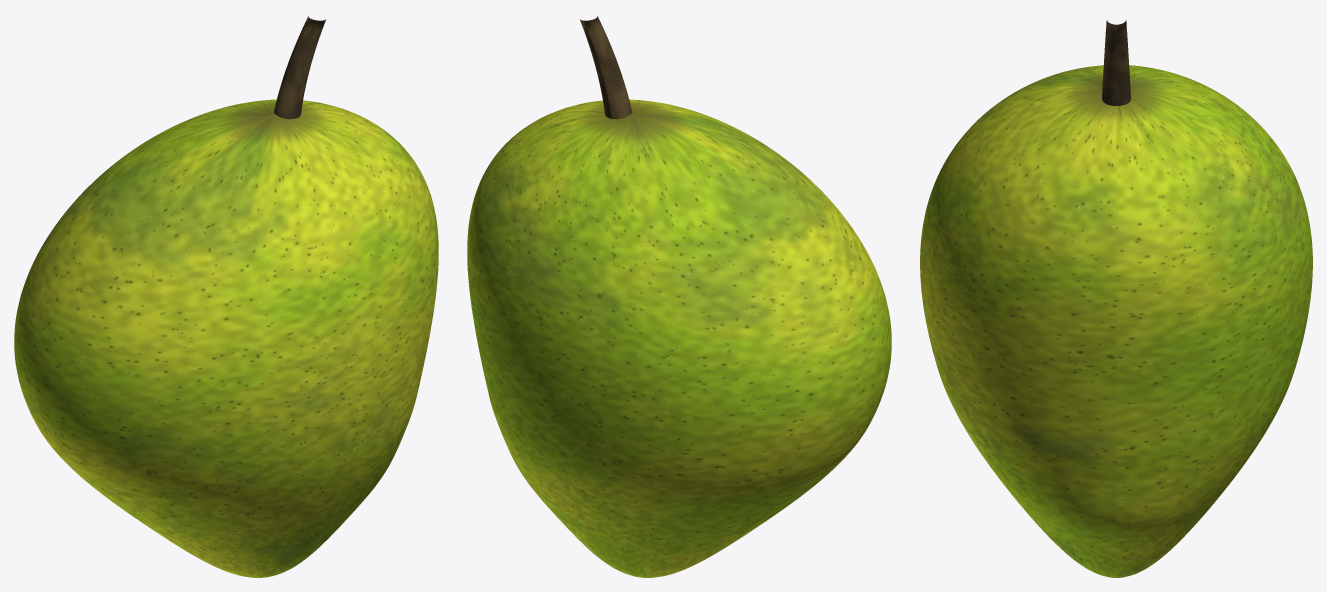
File: mangue-emile.glb
3 renders of one model, left to right at view 1: azimuth 30°, elevation 25°; view 2: azimuth 150°, elevation 25°; view 3: azimuth 270°, elevation 25°, orthographic. The views are drawn at different scales.
Visible parts, largest first — view 1: entier_peau, moitie_A_peau, moitie_B_peau, entier_extra0; view 2: entier_peau, moitie_B_peau, moitie_A_peau, entier_extra0; view 3: entier_peau, moitie_A_peau, moitie_B_peau, entier_extra0.
Part boxes in pixels (x1,y1,x2,y2): entier_peau: [14, 103, 438, 577]; moitie_A_peau: [35, 112, 438, 577]; moitie_B_peau: [14, 99, 370, 465]; entier_extra0: [274, 16, 326, 119]; entier_peau: [467, 102, 891, 577]; moitie_B_peau: [467, 112, 870, 577]; moitie_A_peau: [533, 99, 891, 462]; entier_extra0: [579, 16, 631, 119]; entier_peau: [920, 65, 1312, 577]; moitie_A_peau: [920, 65, 1116, 576]; moitie_B_peau: [1116, 65, 1312, 576]; entier_extra0: [1102, 20, 1130, 105].
Bounding box in the file's own units: 0.0871 × 0.1181 × 0.0721.
Materials: 3 (3 with a texture image).
